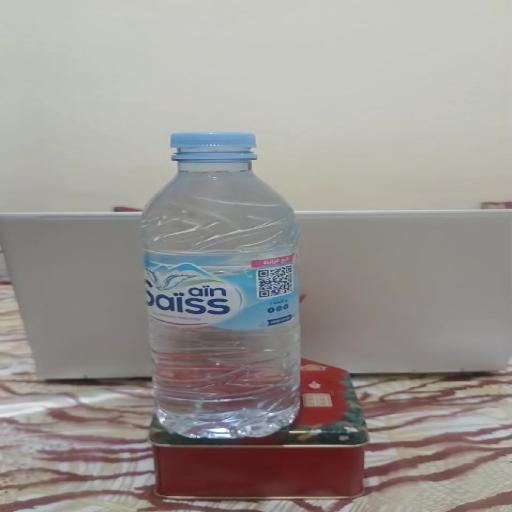bouteille conformite: (155, 122, 280, 172)
bouteille non conformite: (105, 107, 314, 438)
